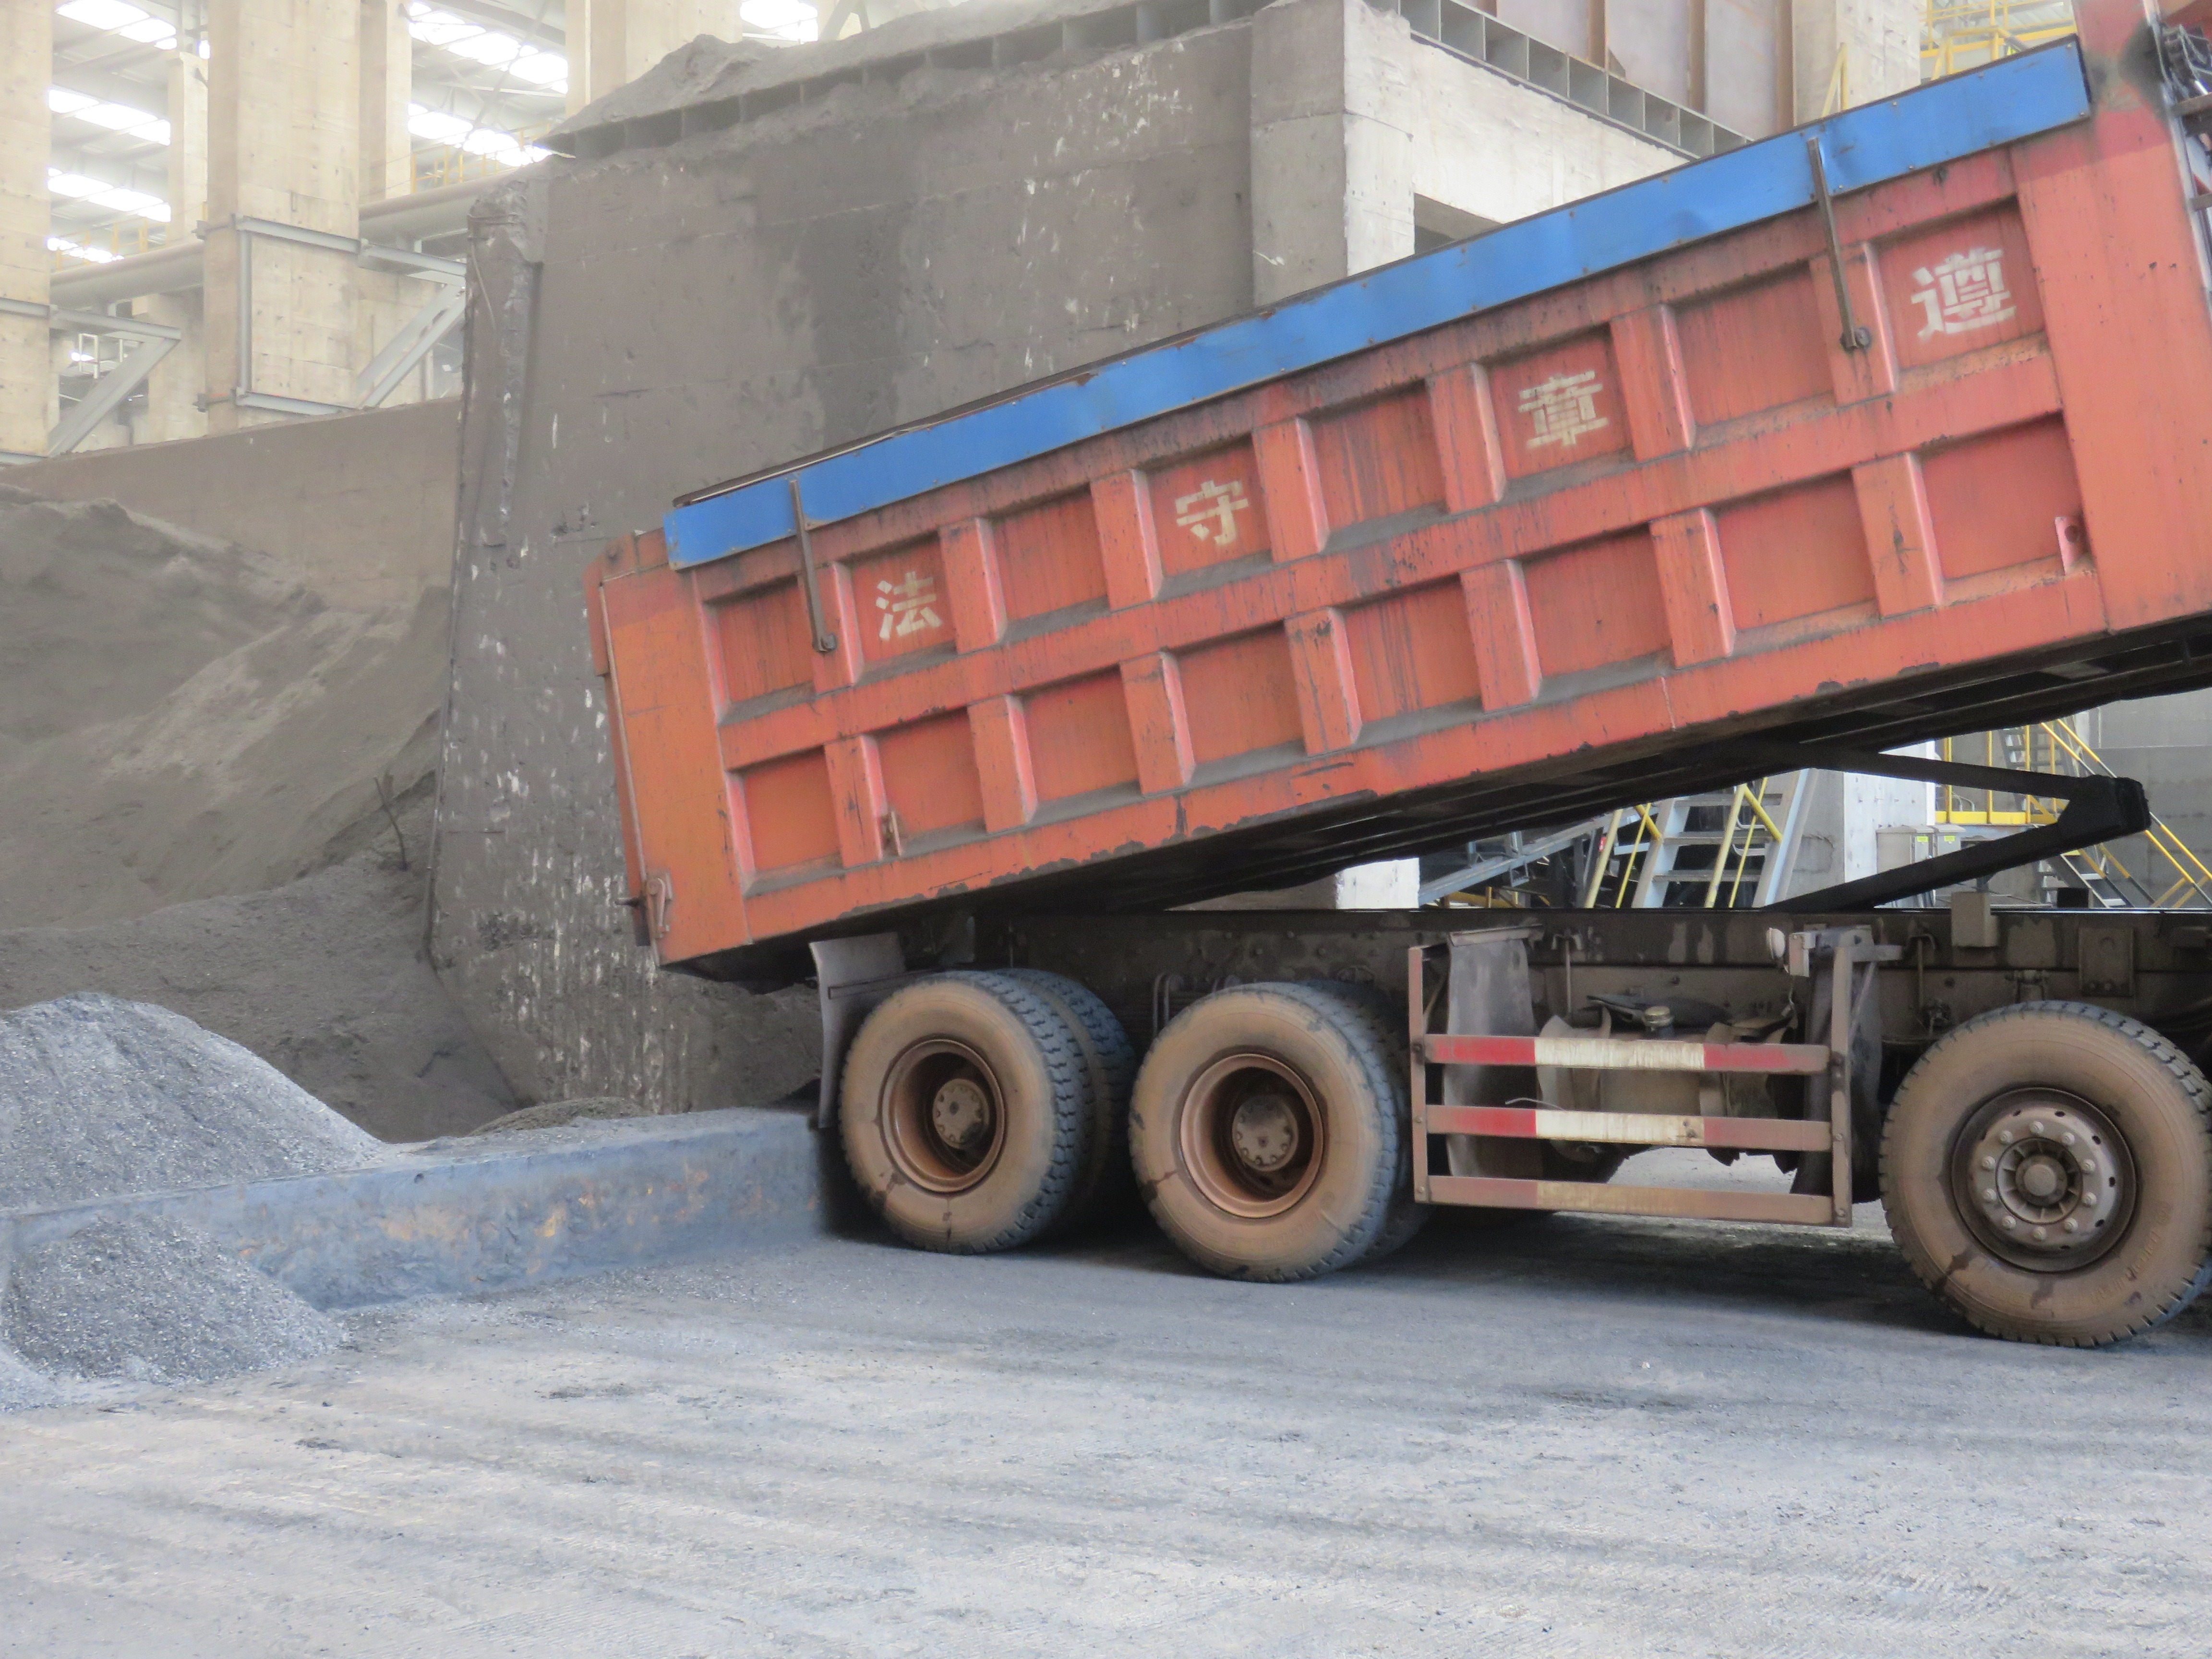truck: (587, 37, 2212, 1358)
